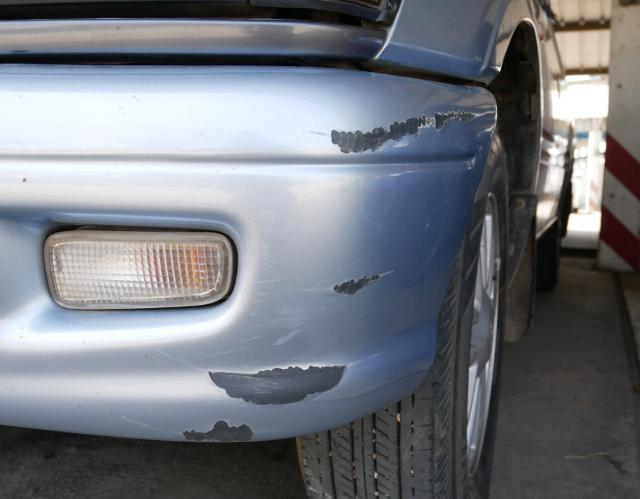scratch: (325, 107, 484, 157), (206, 359, 355, 410), (181, 416, 258, 445), (329, 268, 399, 297)
